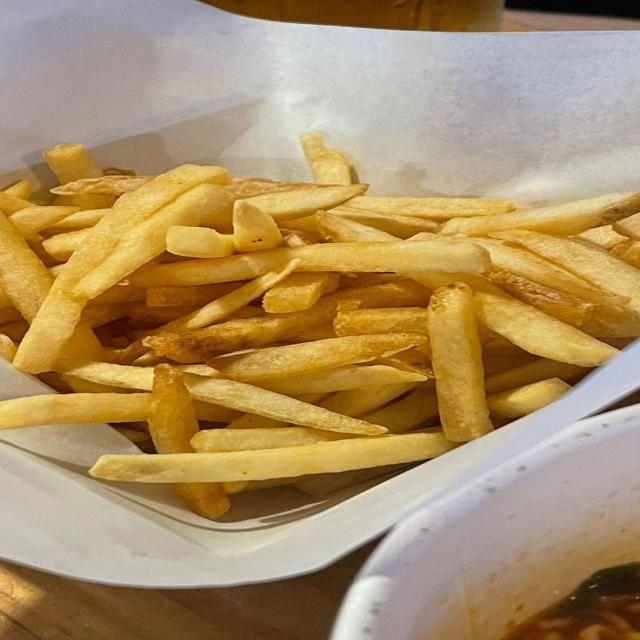potato fries: (0, 134, 639, 518), (14, 165, 227, 372), (73, 184, 232, 300), (91, 434, 454, 482), (133, 241, 489, 285), (147, 292, 346, 362), (498, 230, 639, 313), (475, 293, 618, 366), (428, 283, 493, 441), (221, 334, 424, 380), (441, 193, 639, 235), (488, 269, 593, 325), (0, 214, 53, 321), (0, 394, 150, 429), (256, 365, 426, 394), (147, 365, 199, 453), (247, 184, 367, 222), (349, 197, 514, 220), (293, 464, 408, 496), (192, 428, 343, 452), (24, 210, 92, 262), (362, 387, 438, 433), (331, 206, 438, 238), (485, 359, 588, 392), (487, 379, 570, 419), (319, 383, 416, 416), (263, 273, 339, 313), (334, 308, 427, 336), (300, 134, 351, 185), (315, 212, 399, 242), (142, 282, 242, 307), (233, 201, 281, 252), (43, 144, 103, 184), (51, 175, 154, 196), (167, 226, 233, 257), (11, 206, 79, 236), (227, 178, 322, 199), (46, 209, 111, 234), (576, 225, 626, 250), (0, 192, 33, 215), (613, 213, 639, 240), (3, 180, 33, 200), (0, 334, 16, 362)
